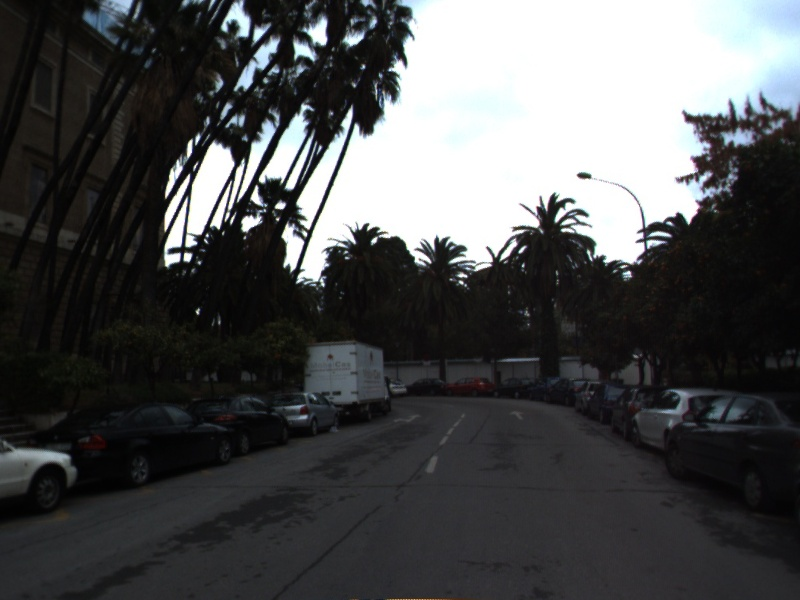STRAIGHT: (507, 409, 527, 422)
STRAIGHT_LEFT: (391, 412, 424, 425)
